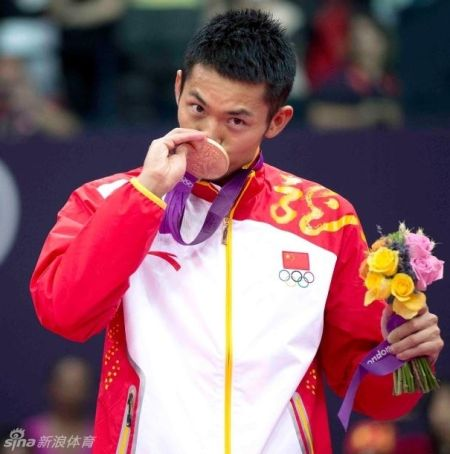face: (176, 62, 267, 175)
